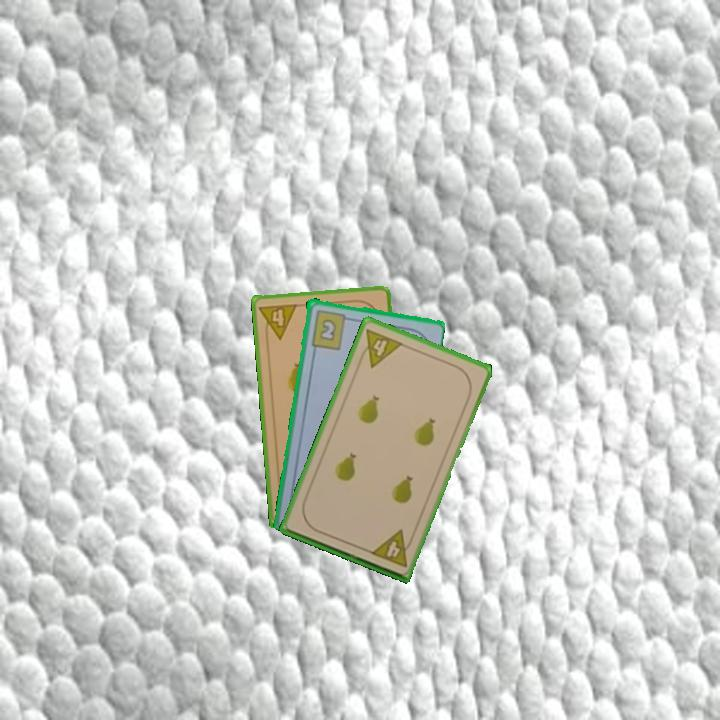2b: (307, 306, 354, 352)
4p: (354, 325, 406, 370), (367, 526, 417, 570), (256, 300, 300, 343)
